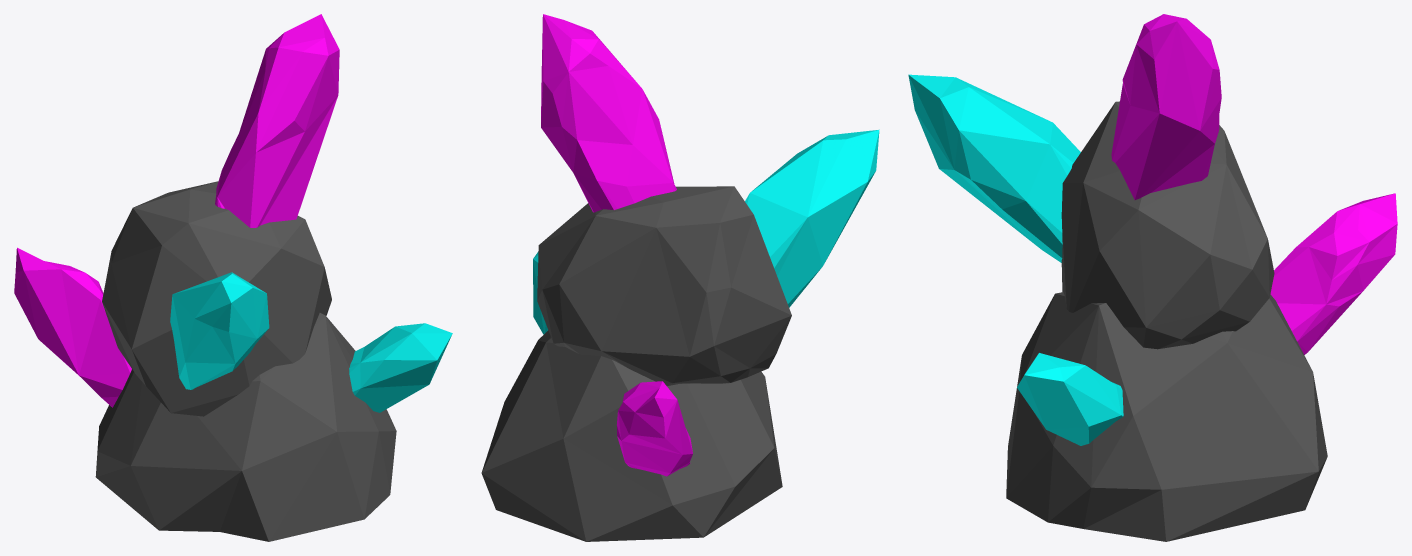
The model's file is CrystalCluster_7.fbx.
The picture shows the model from 3 angles, left to right: view 1: azimuth 30°, elevation 25°; view 2: azimuth 150°, elevation 25°; view 3: azimuth 270°, elevation 25°; orthographic projection. The views are drawn at different scales.
Parts seen in each view (by area): view 1: CrystalCluster_8; view 2: CrystalCluster_8; view 3: CrystalCluster_8.
Boxes of the visible parts, x1=… form: CrystalCluster_8: x1=14, y1=14, x2=452, y2=541; CrystalCluster_8: x1=481, y1=14, x2=879, y2=541; CrystalCluster_8: x1=908, y1=14, x2=1397, y2=541.
Size of the model in its own units: 129 by 191 by 171.
